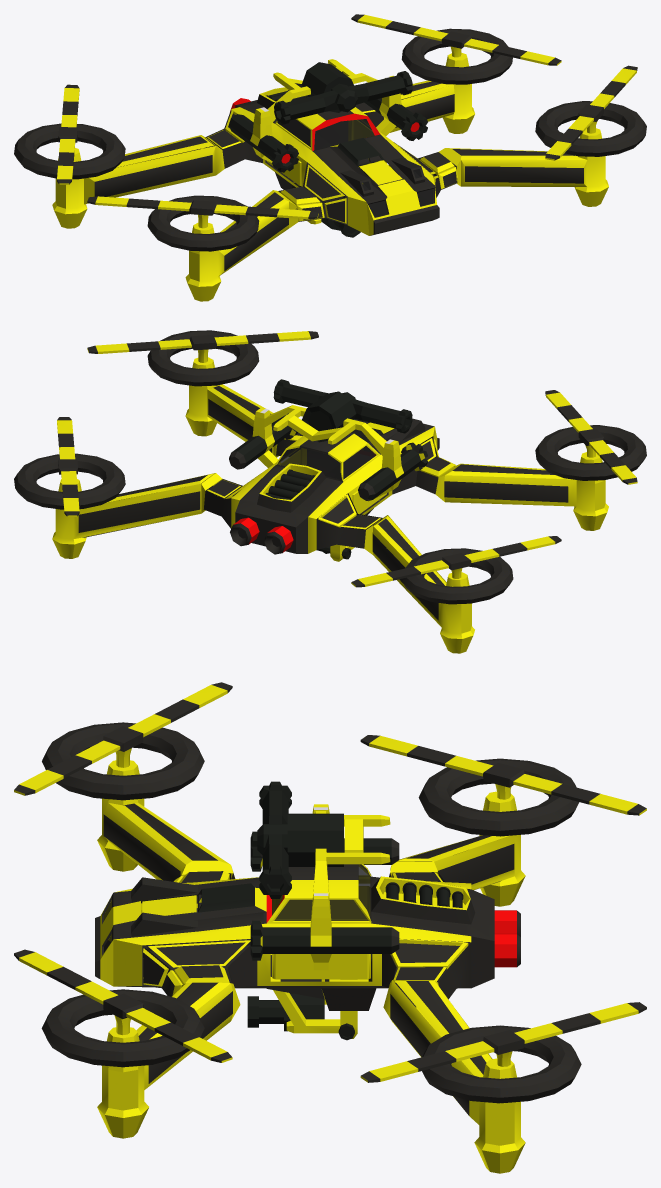
File: drone-transformed.glb
3 renders of one model, top to bottom at view 1: azimuth 30°, elevation 25°; view 2: azimuth 150°, elevation 25°; view 3: azimuth 270°, elevation 25°, orthographic. The views are drawn at different scales.
Parts seen in each view (by area): view 1: drone_costum; view 2: drone_costum; view 3: drone_costum.
Boxes of the visible parts, bbox=[...] form: drone_costum: bbox=[14, 14, 646, 301]; drone_costum: bbox=[14, 330, 646, 653]; drone_costum: bbox=[14, 682, 646, 1173].
Bounding box in the file's own units: 12.4 × 3.35 × 8.76.
3 materials, 3 textured.
